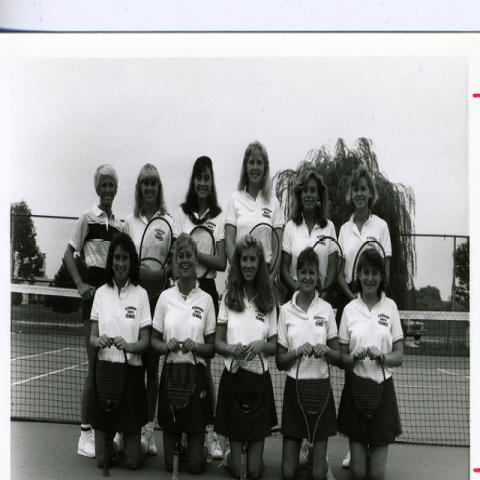car: (403, 320, 426, 340)
